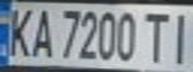0: (115, 7, 142, 63), (96, 7, 121, 62)
2: (78, 6, 100, 61)
7: (54, 4, 81, 60)
A: (27, 4, 57, 58)
I: (163, 8, 193, 65)
K: (3, 4, 36, 58)
T: (139, 7, 175, 64)
